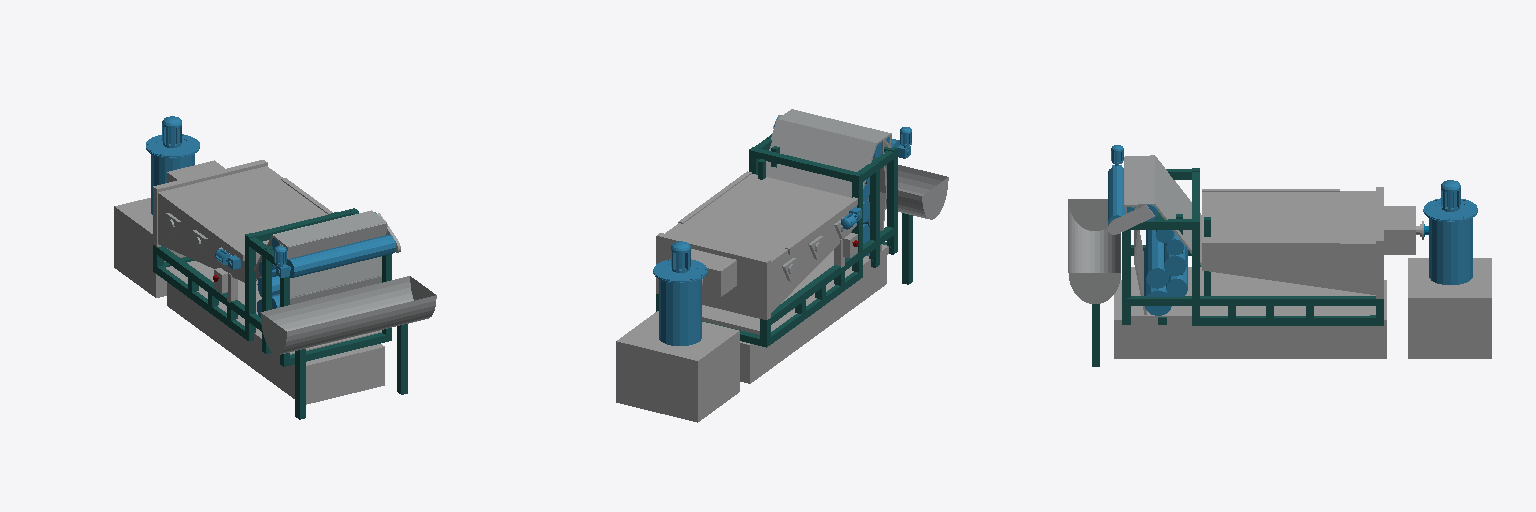
Rendered from dewatering_machine.obj.
The picture shows the model from 3 angles: view 1: azimuth 30°, elevation 25°; view 2: azimuth 150°, elevation 25°; view 3: azimuth 270°, elevation 25°; orthographic projection.
Visible parts, largest first — view 1: ___.3, __.13, ___.33, ___, __.14, __, ___.39, ___.38, ___.41, ___.26, ___.25, ___.2 (+11 smaller); view 2: ___.3, ___, ___.37, ___.33, __, ___.2, __.13, ___.25, ___.26, ___.1, ___.38, ___.14 (+7 smaller); view 3: ___.3, ___.33, ___, __.13, ___.25, __, ___.27, ___.10, ___.37, ___.1, ___.38, ___.5 (+7 smaller).
Boxes of the visible parts, x1,y1,x2,y2 form: ___.3: [158, 166, 327, 282]; __.13: [260, 276, 436, 354]; ___.33: [167, 255, 384, 404]; ___: [114, 198, 185, 297]; __.14: [287, 235, 395, 277]; __: [146, 116, 286, 266]; ___.39: [279, 242, 381, 298]; ___.38: [273, 211, 386, 247]; ___.41: [287, 223, 386, 258]; ___.26: [157, 246, 261, 331]; ___.25: [166, 261, 381, 358]; ___.2: [153, 160, 267, 246]; ___.3: [665, 174, 856, 312]; ___: [616, 311, 739, 422]; ___.37: [766, 119, 876, 197]; ___.33: [740, 145, 910, 383]; __: [653, 127, 911, 345]; ___.2: [656, 233, 770, 319]; __.13: [885, 165, 948, 219]; ___.25: [702, 244, 888, 334]; ___.26: [771, 226, 893, 324]; ___.1: [691, 249, 736, 296]; ___.38: [778, 109, 890, 144]; ___.14: [750, 149, 856, 182]; ___.3: [1202, 191, 1375, 294]; ___.33: [1112, 165, 1386, 358]; ___: [1408, 258, 1491, 358]; __.13: [1068, 199, 1120, 303]; ___.25: [1131, 267, 1369, 323]; __: [1111, 145, 1477, 284]; ___.27: [1127, 296, 1375, 305]; ___.10: [1196, 315, 1375, 325]; ___.37: [1155, 156, 1201, 266]; ___.1: [1384, 206, 1415, 254]; ___.38: [1125, 155, 1154, 206]; ___.5: [1202, 241, 1339, 248].
Bounding box in the file's own units: 942 × 993 × 2305.